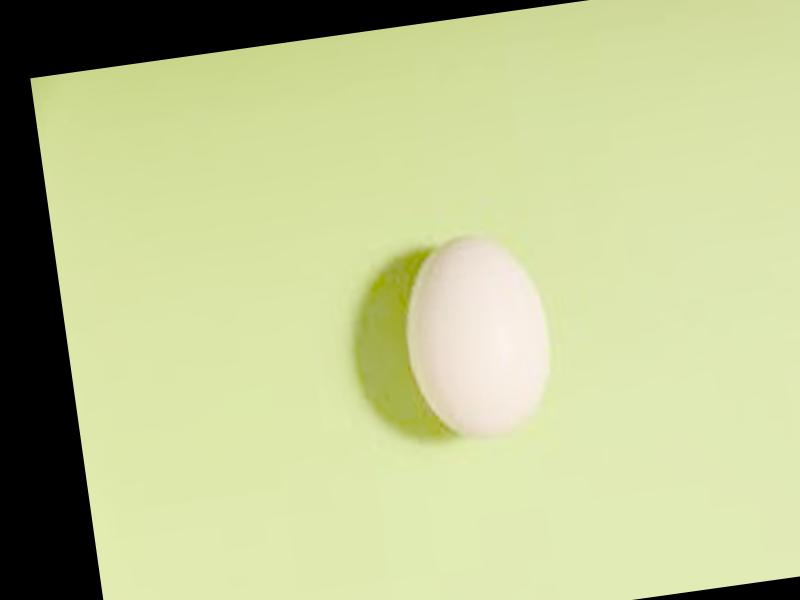Eggs: (393, 223, 557, 446)
